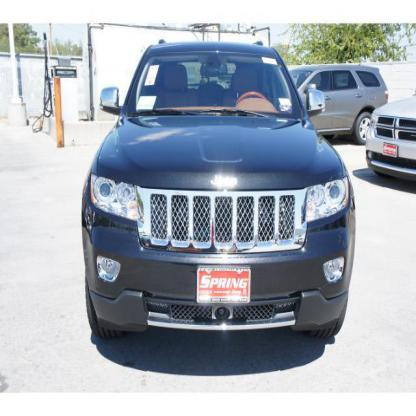Vehicle: (81, 40, 358, 340)
